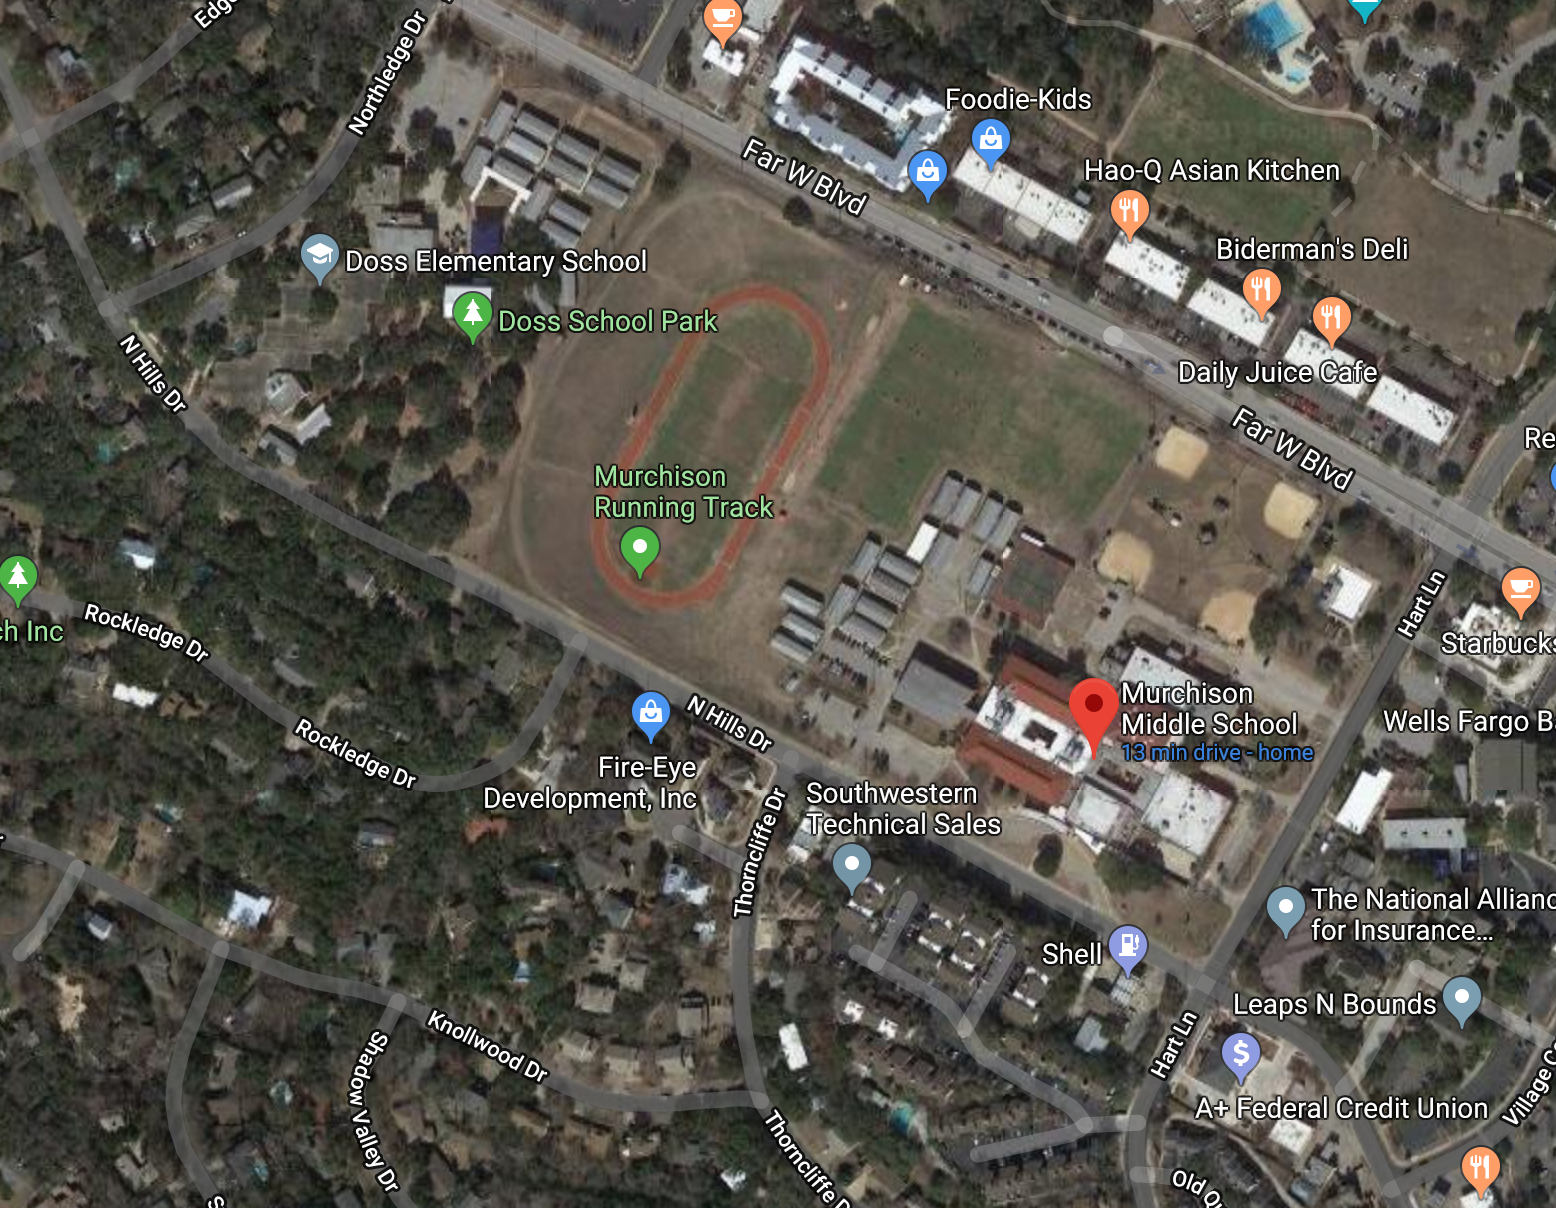football: (589, 241, 834, 628)
